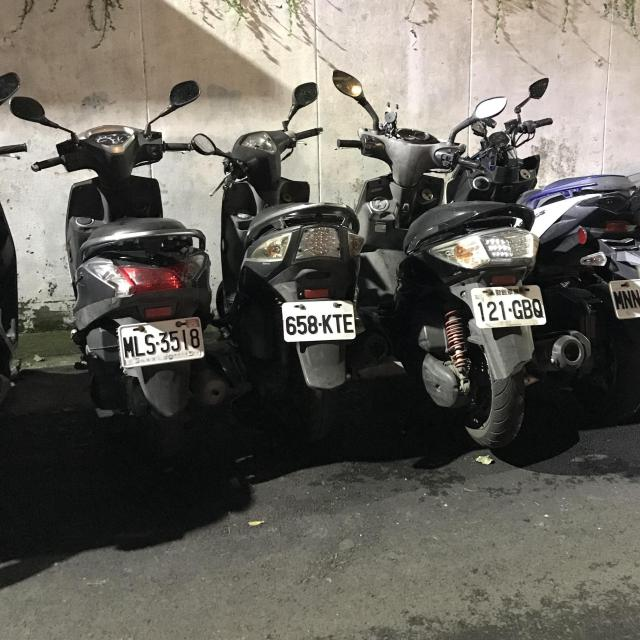W: (115, 314, 208, 368), (467, 280, 549, 331), (279, 296, 358, 344), (605, 272, 640, 322)
